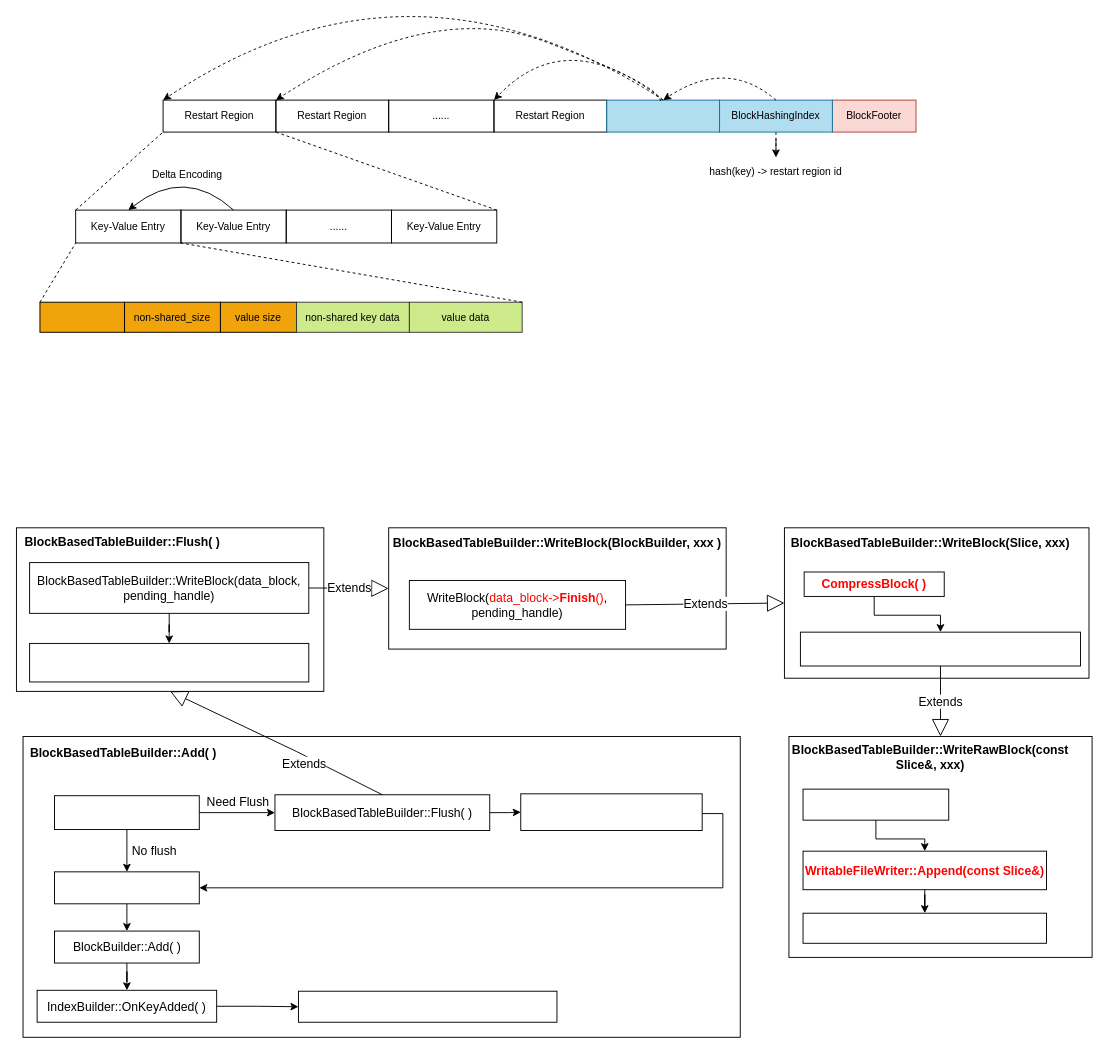
Some shapes in this 1109 by 1054 pixel diagram are drawn without their labels. The centre of each missing label's shape, as x and y in pixels:
"Append Block Trailer" goes at (x=924, y=927).
"BlockBasedTableBuilder::WriteRawBlock(const Slice&, xxx )" goes at (x=940, y=648).
"FilterBlockBuilder::Add( )" goes at (x=126, y=887).
"FilterBlockBuilder::StartBlock( )" goes at (x=169, y=662).
"IndexBuilder::AddIndexEntry( )" goes at (x=611, y=811).
"NotifyCollectTableCollectorsOnAdd( )" goes at (x=427, y=1006).
"Rep::UpdateAndCheck( )" goes at (x=126, y=812).
"Restart Offset array" goes at (x=663, y=115).
"shared_size" goes at (x=82, y=316).
"Update Pending Handle" goes at (x=875, y=804).
